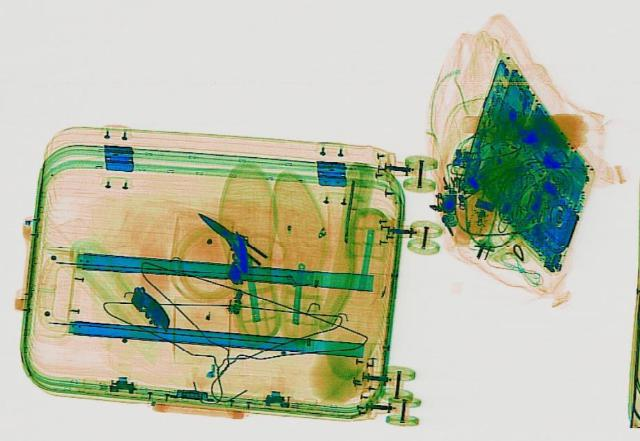Pliers: (188, 207, 270, 264)
